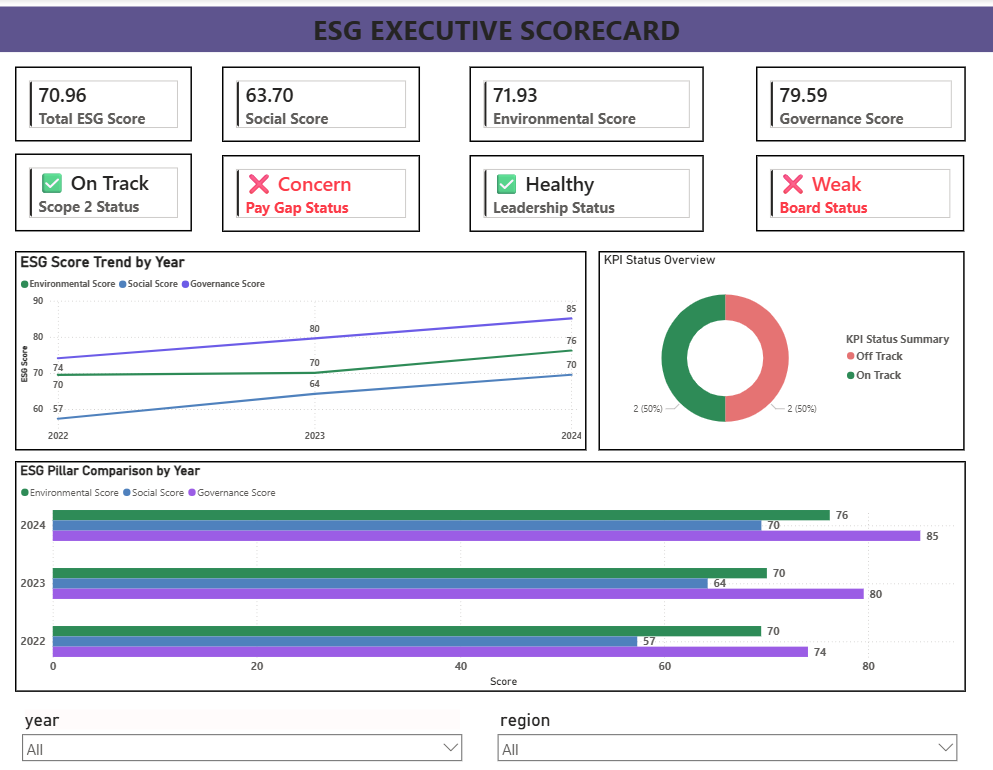

What the dashboard file says about the page in this screenshot:
{"tool":"powerbi","page":{"name":"Page 1","canvas":[1350,1050],"ordinal":0},"visuals":[{"type":"textbox","box":[0,10.7,1350.8,62],"z":0},{"type":"cardVisual","fields":{"Data":["Measures Table.Total ESG Score"]},"box":[20.4,91.8,240.7,102],"z":1000},{"type":"cardVisual","fields":{"Data":["Measures Table.Environmental Score"]},"box":[639.1,91.9,318.5,102.6],"z":2000},{"type":"cardVisual","fields":{"Data":["Measures Table.Social Score"]},"box":[301.4,91.9,269.3,102.6],"z":3000},{"type":"cardVisual","fields":{"Data":["Measures Table.Governance Score"]},"box":[1028.3,91.8,285.6,102],"z":4000},{"type":"cardVisual","fields":{"Data":["Measures Table.Scope 2 Status"]},"box":[20.4,210.1,240.7,106.1],"z":5000},{"type":"cardVisual","fields":{"Data":["Measures Table.Pay Gap Status"]},"box":[301.4,211.6,269.3,104.7],"z":6000},{"type":"cardVisual","fields":{"Data":["Measures Table.Leadership Status"]},"box":[639.1,211.6,318.5,104.7],"z":7000},{"type":"cardVisual","fields":{"Data":["Measures Table.Board Status"]},"box":[1028.3,212.2,283.6,104.1],"z":8000},{"type":"lineChart","title":"ESG Score Trend by Year","fields":{"Category":["esg_analysis esg_kpi_summary.year"],"Y":["Measures Table.Environmental Score","Measures Table.Social Score","Measures Table.Governance Score"]},"box":[20.4,342.8,777.3,271.3],"z":9000},{"type":"donutChart","title":"KPI Status Overview","fields":{"Category":["Table.KPI Status Summary"],"Y":["Measures Table.KPI Status Count"]},"box":[814,342.8,497.8,271.3],"z":10000},{"type":"clusteredBarChart","title":"ESG Pillar Comparison by Year","fields":{"Category":["esg_analysis esg_kpi_summary.year"],"Y":["Measures Table.Environmental Score","Measures Table.Social Score","Measures Table.Governance Score"]},"box":[20.4,628.4,1293.5,299.9],"z":11000},{"type":"slicer","fields":{"Values":["esg_analysis esg_kpi_summary.year"]},"box":[20.4,942.6,618.2,108.1],"z":12000},{"type":"slicer","fields":{"Values":["esg_analysis esg_energy_emissions_clean.region"]},"box":[667.1,942.6,644.7,108.1],"z":13000}]}

Visuals, with their boxes in screenshot pixels (x1, y1, x2, y2), scaled from the page's 1350x1050 canvas onto the 993x770 screenshot:
textbox: {"left": 0, "top": 8, "right": 992, "bottom": 53}
cardVisual - Measures Table.Total ESG Score: {"left": 15, "top": 67, "right": 192, "bottom": 142}
cardVisual - Measures Table.Environmental Score: {"left": 470, "top": 67, "right": 704, "bottom": 143}
cardVisual - Measures Table.Social Score: {"left": 222, "top": 67, "right": 420, "bottom": 143}
cardVisual - Measures Table.Governance Score: {"left": 756, "top": 67, "right": 966, "bottom": 142}
cardVisual - Measures Table.Scope 2 Status: {"left": 15, "top": 154, "right": 192, "bottom": 232}
cardVisual - Measures Table.Pay Gap Status: {"left": 222, "top": 155, "right": 420, "bottom": 232}
cardVisual - Measures Table.Leadership Status: {"left": 470, "top": 155, "right": 704, "bottom": 232}
cardVisual - Measures Table.Board Status: {"left": 756, "top": 156, "right": 965, "bottom": 232}
"ESG Score Trend by Year" lineChart: {"left": 15, "top": 251, "right": 587, "bottom": 450}
"KPI Status Overview" donutChart: {"left": 599, "top": 251, "right": 965, "bottom": 450}
"ESG Pillar Comparison by Year" clusteredBarChart: {"left": 15, "top": 461, "right": 966, "bottom": 681}
slicer - esg_analysis esg_kpi_summary.year: {"left": 15, "top": 691, "right": 470, "bottom": 769}
slicer - esg_analysis esg_energy_emissions_clean.region: {"left": 491, "top": 691, "right": 965, "bottom": 769}
